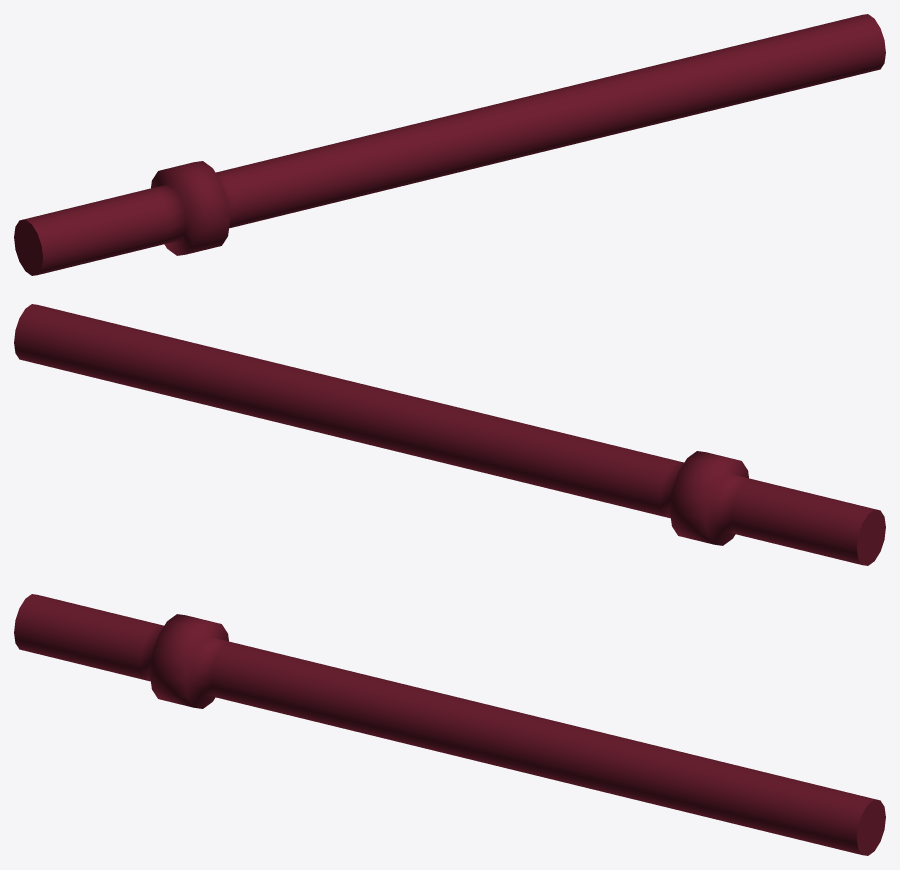
The model's file is MetalPipe.glb.
The picture shows the model from 3 angles, top to bottom: view 1: azimuth 30°, elevation 25°; view 2: azimuth 150°, elevation 25°; view 3: azimuth 330°, elevation 25°; orthographic projection.
Parts seen in each view (by area): view 1: NurbsPath; view 2: NurbsPath; view 3: NurbsPath.
Boxes of the visible parts, x1,y1,x2,y2 form: NurbsPath: [14, 14, 885, 275]; NurbsPath: [14, 304, 885, 565]; NurbsPath: [14, 594, 885, 855].
Size of the model in its own units: 4 by 0.3582 by 0.3674.
